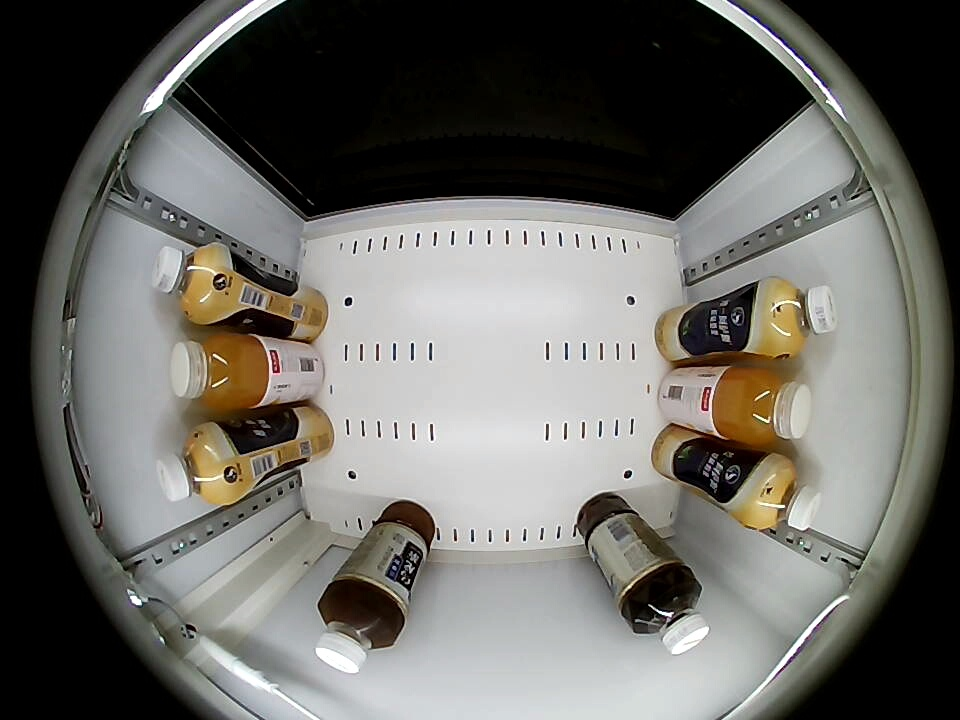asamu: (156, 424, 235, 504), (760, 279, 839, 357), (150, 243, 229, 320), (743, 457, 823, 533)
weic: (712, 366, 813, 445), (170, 332, 270, 410)
wulongcha: (315, 586, 404, 675), (629, 575, 709, 655)
